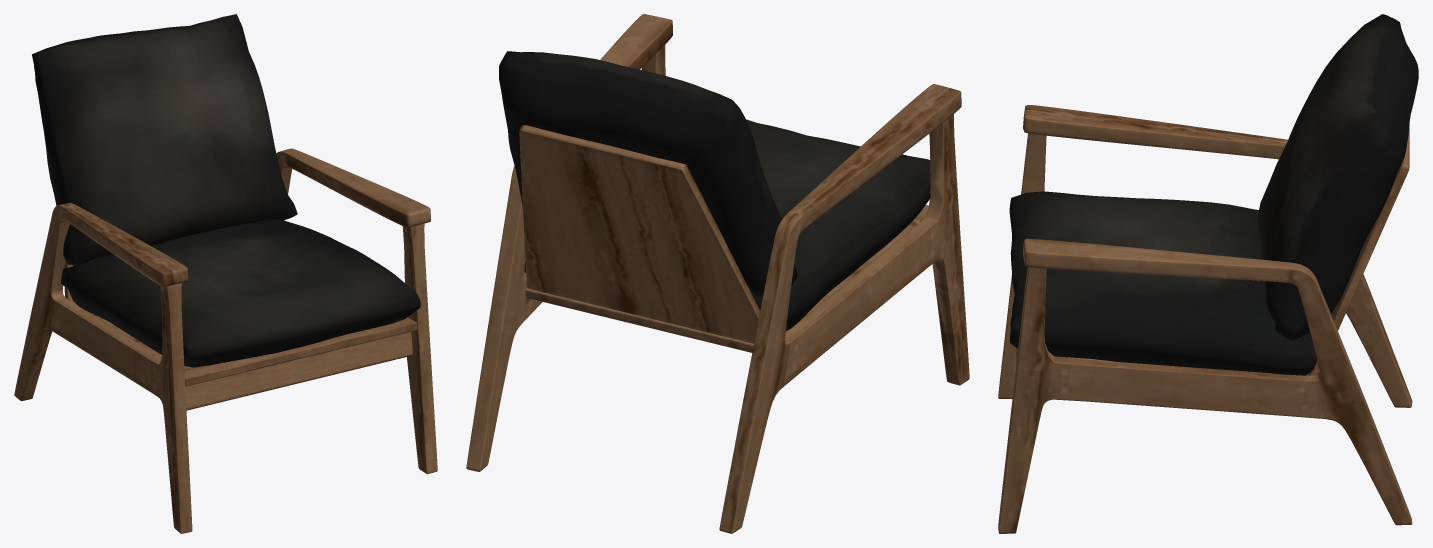
The model's file is modern_arm_chair_01.8ba8c183.glb.
3 renders of one model, left to right at view 1: azimuth 30°, elevation 25°; view 2: azimuth 150°, elevation 25°; view 3: azimuth 270°, elevation 25°, orthographic. The views are drawn at different scales.
Visible parts, largest first — view 1: modern_arm_chair_01; view 2: modern_arm_chair_01; view 3: modern_arm_chair_01.
Part boxes in pixels (x1=…): modern_arm_chair_01: x1=14, y1=14, x2=437, y2=533; modern_arm_chair_01: x1=466, y1=14, x2=969, y2=533; modern_arm_chair_01: x1=998, y1=14, x2=1418, y2=533.
Bounding box in the file's own units: 0.5987 × 0.7465 × 0.72.
2 materials, 2 textured.
